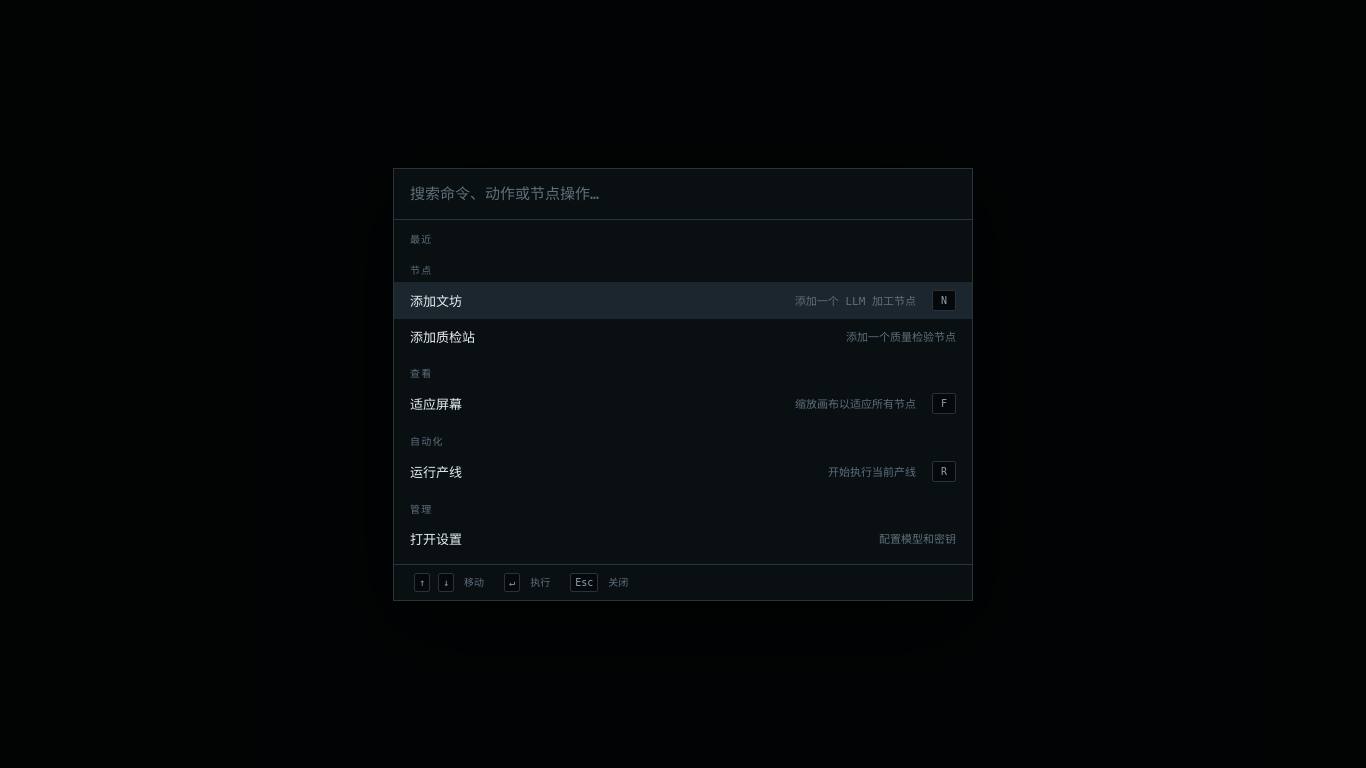
Test case: CommandPalette › 搜索过滤 › 搜索匹配 keywords
In the field with placeholder "搜索命令、动作或节点操作…": (683, 194) [394,168,972,220], type "zoom"
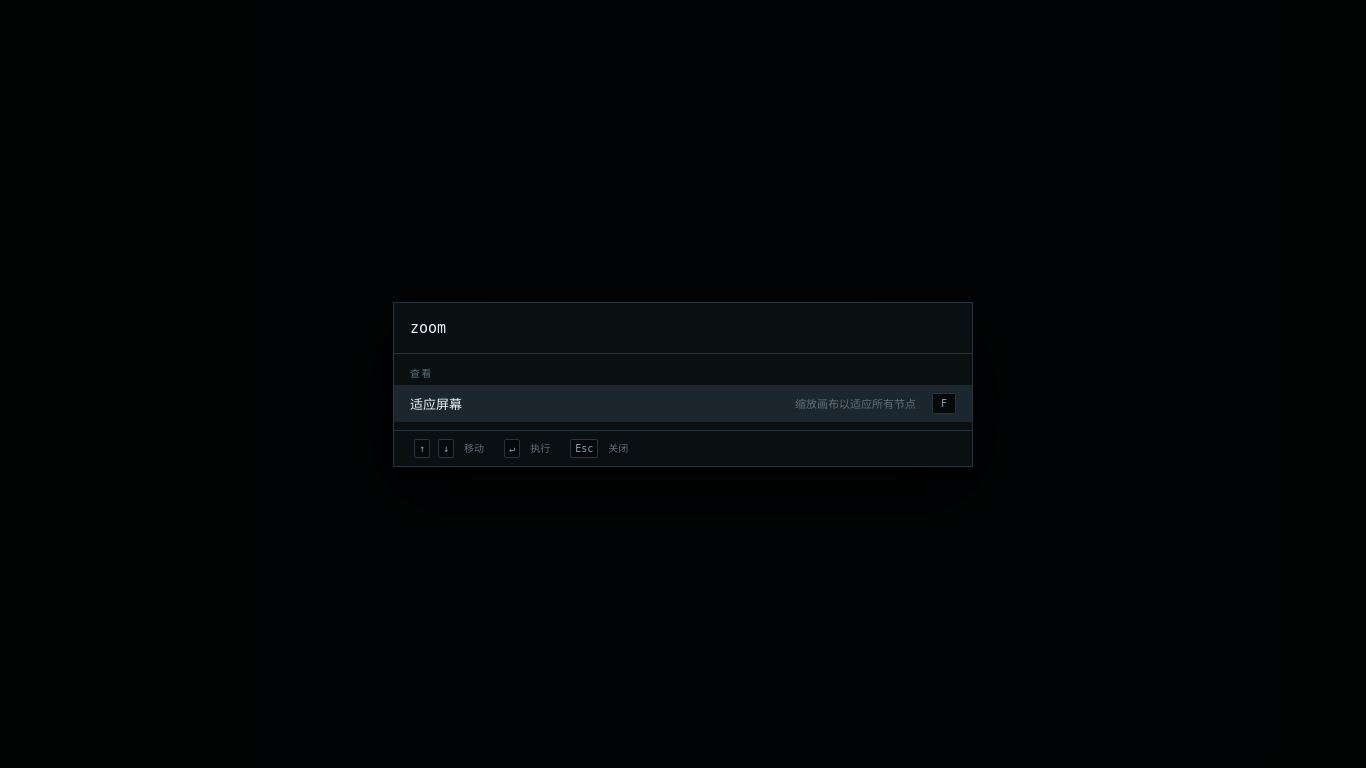
Expected: the text "适应屏幕" is shown, [410,396,462,412]
Now the button "运行产线" is gone
